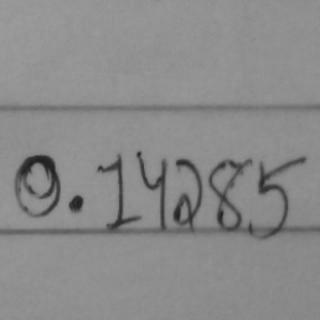.: (66, 188, 90, 216)
0: (14, 152, 64, 218)
1: (96, 154, 141, 226)
2: (171, 155, 206, 233)
4: (137, 152, 173, 232)
5: (251, 153, 310, 240)
8: (206, 158, 249, 228)
